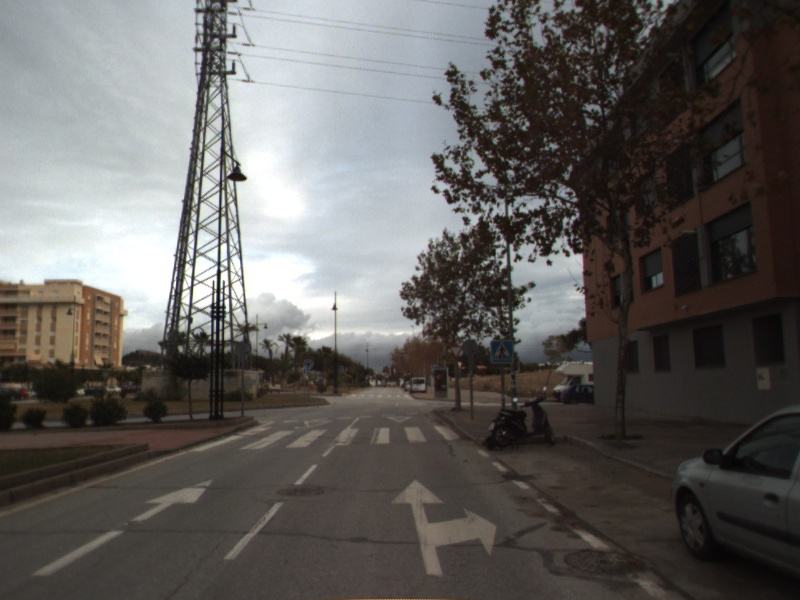STRAIGHT: (27, 478, 214, 579)
STRAIGHT_RIGHT: (389, 476, 499, 578)
